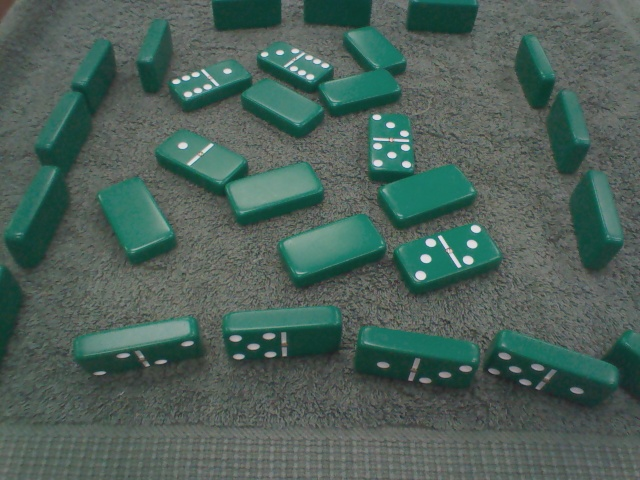A: (86, 172, 187, 268), (272, 209, 388, 289), (376, 156, 480, 223), (219, 155, 326, 214), (236, 73, 326, 137), (341, 21, 415, 75), (313, 69, 407, 111)
B: (387, 227, 509, 294), (153, 124, 242, 188), (164, 56, 253, 111), (359, 107, 426, 177), (253, 37, 333, 89)
C: (11, 161, 62, 274), (38, 91, 93, 172), (66, 34, 123, 112), (131, 19, 180, 90), (2, 263, 26, 360)
D: (560, 166, 632, 273), (508, 29, 559, 109), (543, 89, 588, 177)
E: (346, 316, 485, 399), (487, 331, 620, 411), (210, 301, 344, 370), (63, 317, 205, 378)
F: (405, 1, 480, 37), (301, 1, 375, 26), (208, 1, 285, 25)
